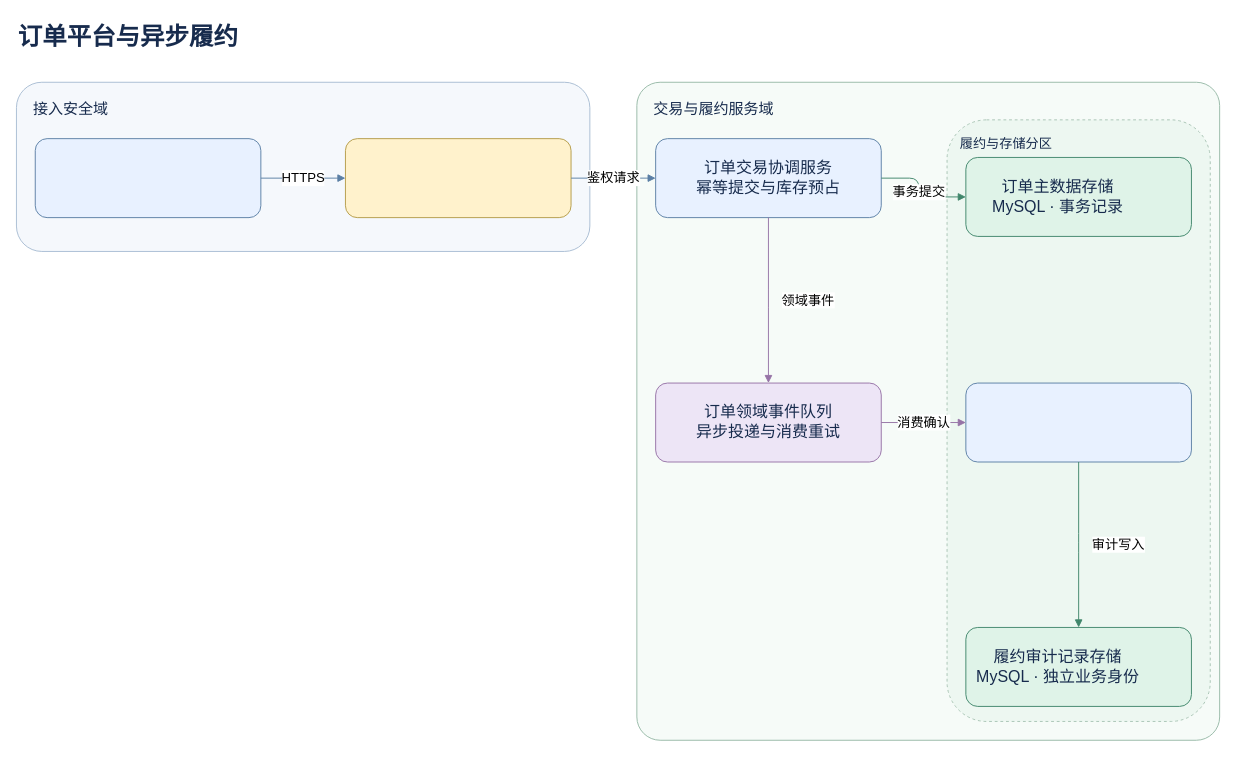
The diagram is 1236 pixels wide and 757 high, and some of its shapes have lost their labels. The centre of each missing label's shape, as x and y in pixels:
"商家运营工作台 订单查询与履约管理" goes at point (147, 178).
"统一身份认证网关 身份校验与请求限流" goes at point (458, 178).
"跨仓履约编排服务 拆单与配送状态汇总" goes at point (1078, 422).
